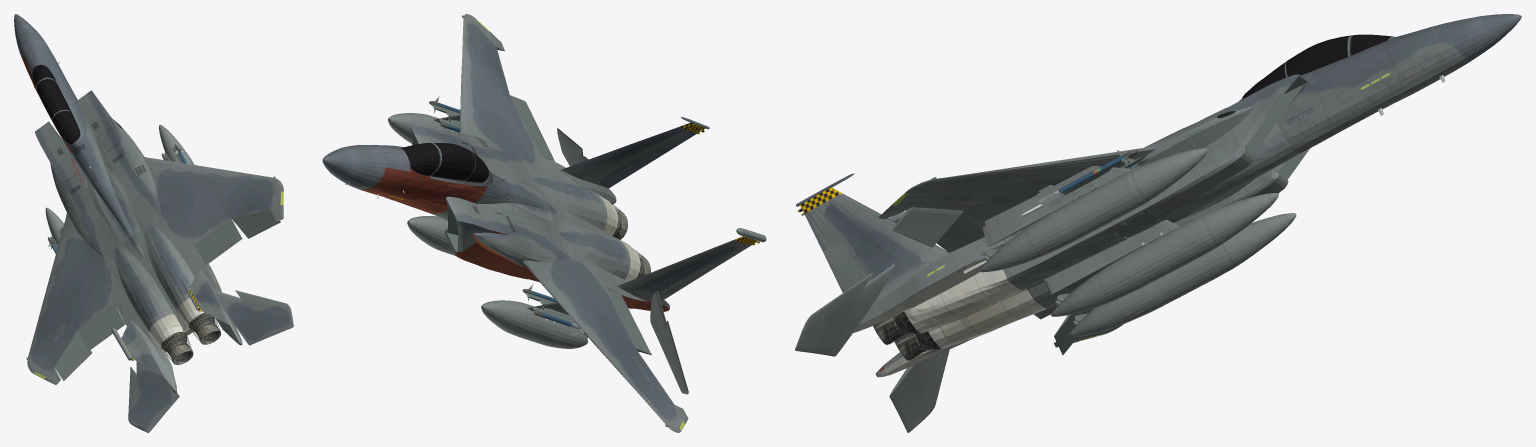
File: f15_mod.obj
3 views of the same model, side by side, from view 1: azimuth 30°, elevation 25°; view 2: azimuth 150°, elevation 25°; view 3: azimuth 270°, elevation 25° (orthographic). The views are drawn at different scales.
Parts seen in each view (by area): view 1: Wings_Main, Body_1, Rear_5, Rear_6, Middl, Glass_2, Body_2, Body_, Rear_9, Rear_2, Bombs, Rear_Right (+4 smaller); view 2: Wings_Main, Body_1, Bombs, Body_3, Glass_2, Rear_6, Body_Parts, Middl, Body_, Glass_1, Missiles, Rear_2 (+4 smaller); view 3: Bombs, Body_1, Body_2, Body_Under, Body_, Rear_5, Rear_6, Body_Parts, Glass_2, Rear_Left_, Missiles, Rear_1 (+2 smaller).
Boxes of the visible parts, left/top/right/bottom form: Wings_Main: left=27, top=90, right=283, bottom=391; Body_1: left=14, top=14, right=242, bottom=393; Rear_5: left=214, top=290, right=293, bottom=345; Rear_6: left=128, top=361, right=179, bottom=432; Middl: left=91, top=173, right=140, bottom=242; Glass_2: left=36, top=78, right=80, bottom=144; Body_2: left=36, top=44, right=242, bottom=342; Body_: left=34, top=61, right=204, bottom=364; Rear_9: left=194, top=218, right=242, bottom=265; Rear_2: left=77, top=304, right=125, bottom=350; Bombs: left=45, top=125, right=194, bottom=245; Rear_Right: left=54, top=331, right=92, bottom=380; Wings_Main: left=411, top=14, right=688, bottom=432; Body_1: left=322, top=114, right=759, bottom=314; Bombs: left=388, top=113, right=587, bottom=348; Body_3: left=359, top=167, right=668, bottom=311; Glass_2: left=432, top=143, right=489, bottom=182; Rear_6: left=650, top=291, right=688, bottom=394; Body_Parts: left=412, top=104, right=766, bottom=321; Middl: left=501, top=177, right=553, bottom=222; Body_: left=345, top=117, right=709, bottom=323; Glass_1: left=401, top=143, right=439, bottom=175; Missiles: left=429, top=96, right=580, bottom=336; Rear_2: left=606, top=287, right=651, bottom=355; Bombs: left=980, top=148, right=1296, bottom=336; Body_1: left=797, top=14, right=1521, bottom=374; Body_2: left=858, top=27, right=1448, bottom=325; Body_Under: left=859, top=68, right=1453, bottom=366; Body_: left=796, top=68, right=1445, bottom=377; Rear_5: left=795, top=264, right=894, bottom=356; Rear_6: left=889, top=349, right=949, bottom=432; Body_Parts: left=889, top=76, right=1309, bottom=222; Glass_2: left=1242, top=35, right=1349, bottom=98; Rear_Left_: left=892, top=207, right=963, bottom=247; Missiles: left=1036, top=149, right=1148, bottom=208; Rear_1: left=823, top=242, right=869, bottom=292.
Bounding box in the file's own units: 1.3 × 1.75 × 2.51.
